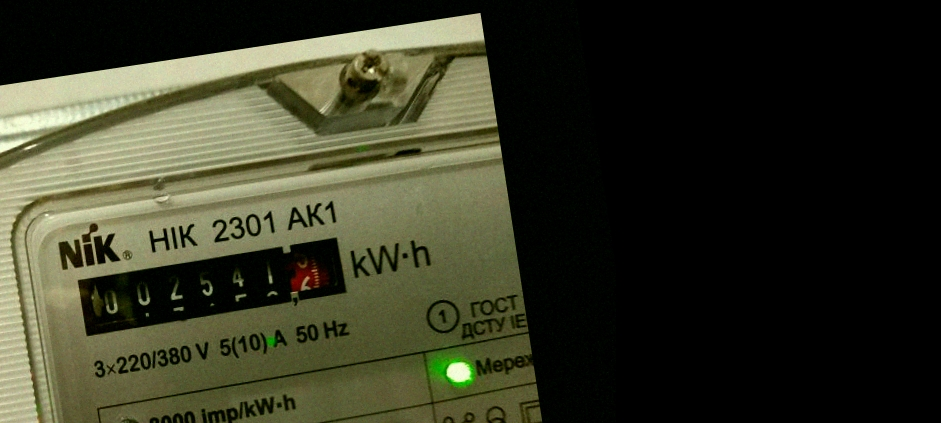0: (131, 274, 154, 309), (101, 284, 122, 316)
1: (257, 252, 277, 287)
2: (161, 268, 187, 304)
4: (226, 257, 248, 291)
5: (195, 265, 216, 299)
6: (295, 270, 314, 294)
screen: (60, 219, 370, 353)
